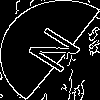N: (25, 25, 92, 82)
